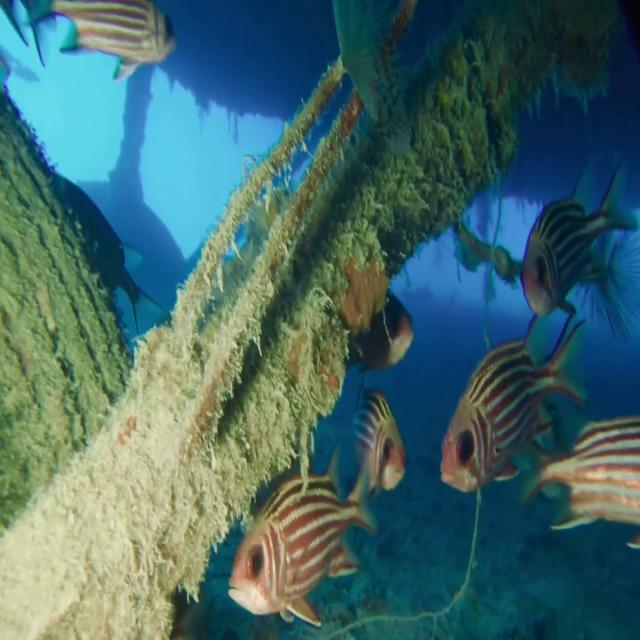Asker Baligi: (226, 382, 406, 628), (439, 310, 589, 494)
